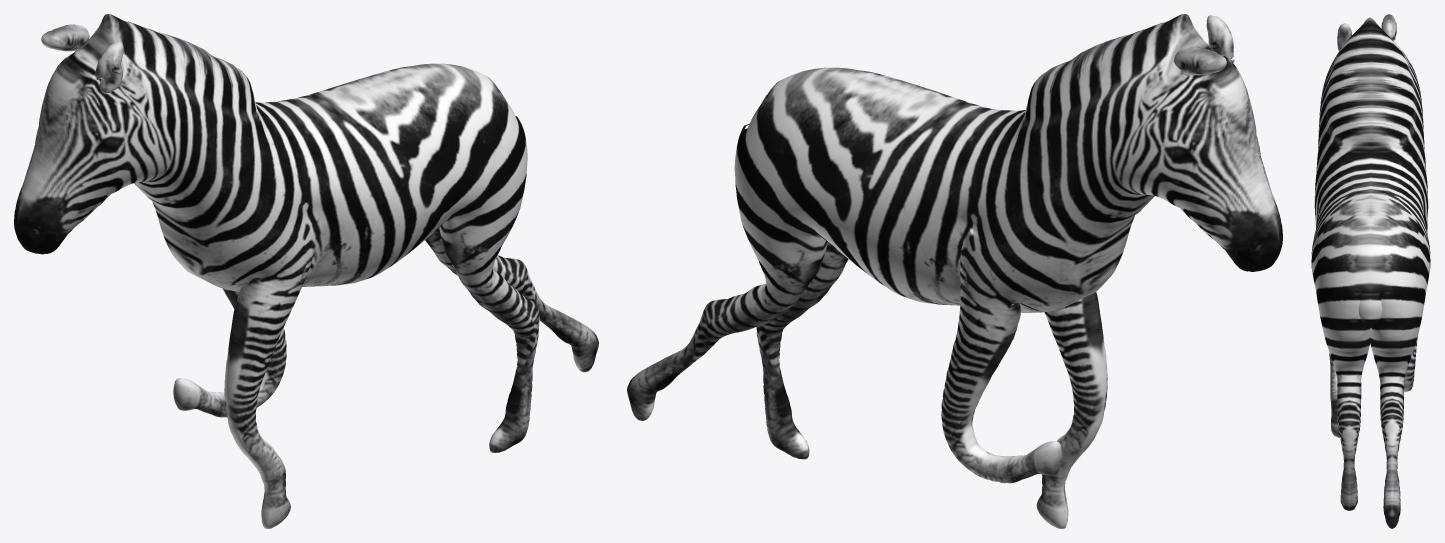
3 renders of one model, left to right at view 1: azimuth 30°, elevation 25°; view 2: azimuth 150°, elevation 25°; view 3: azimuth 270°, elevation 25°, orthographic. The views are drawn at different scales.
Bounding box in the file's own units: 8.58 × 7.33 × 2.13.
1 material, 1 textured.
